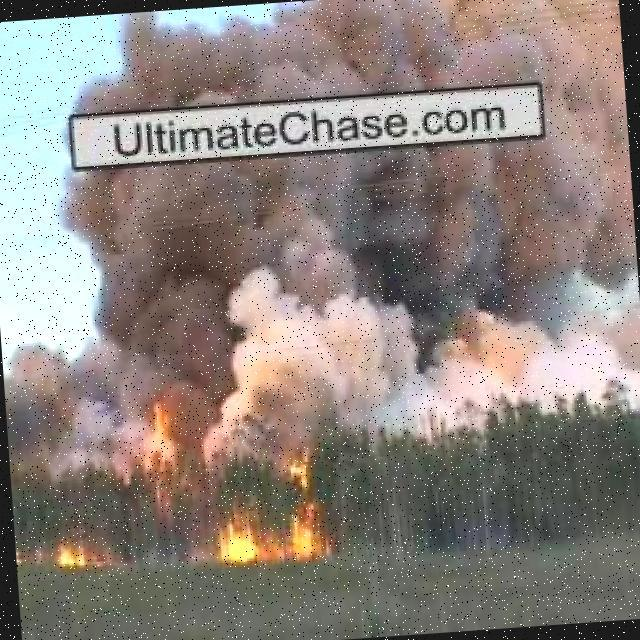Fire: (217, 454, 328, 561), (147, 387, 189, 489), (59, 535, 94, 563)
